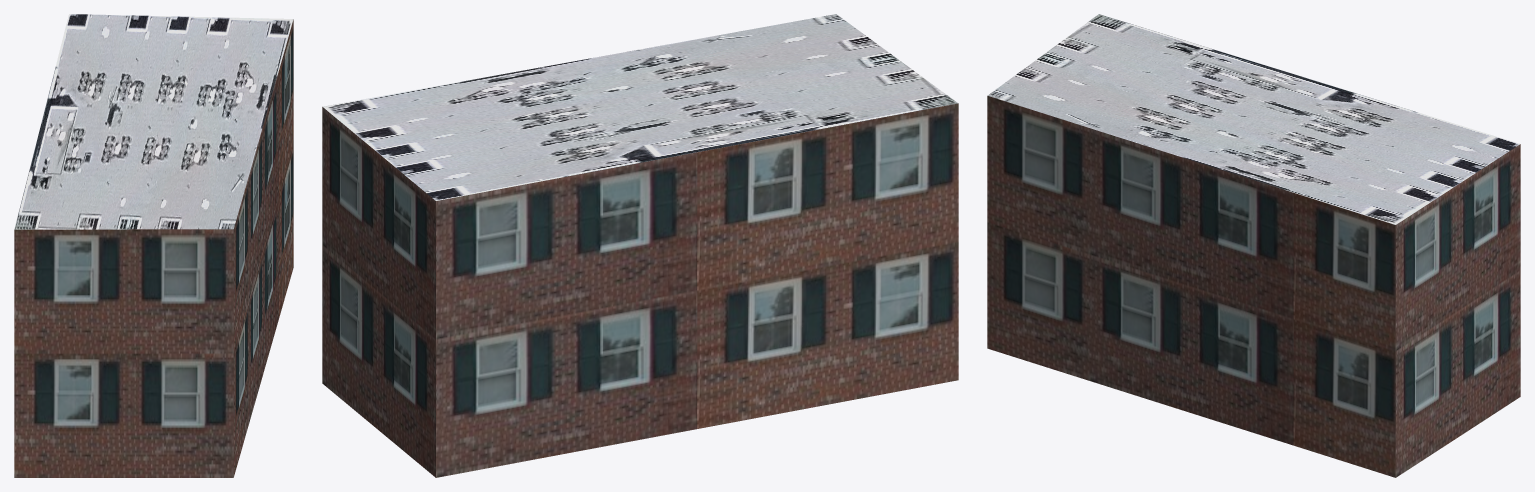
File: ResTex__3470.fbx
3 views of the same model, side by side, from view 1: azimuth 30°, elevation 25°; view 2: azimuth 150°, elevation 25°; view 3: azimuth 270°, elevation 25° (orthographic). The views are drawn at different scales.
Visible parts, largest first — view 1: CityEngineMaterial_14_m, CityEngineMaterial_4_m; view 2: CityEngineMaterial_14_m, CityEngineMaterial_4_m; view 3: CityEngineMaterial_14_m, CityEngineMaterial_4_m.
Part boxes in pixels (<box>): CityEngineMaterial_14_m: <box>14,20,293,477</box>; CityEngineMaterial_4_m: <box>14,14,293,229</box>; CityEngineMaterial_14_m: <box>322,103,958,477</box>; CityEngineMaterial_4_m: <box>323,14,957,200</box>; CityEngineMaterial_14_m: <box>987,96,1520,477</box>; CityEngineMaterial_4_m: <box>987,14,1519,224</box>.
Bounding box in the file's own units: 10.74 × 6 × 11.46.
2 materials, 2 textured.
